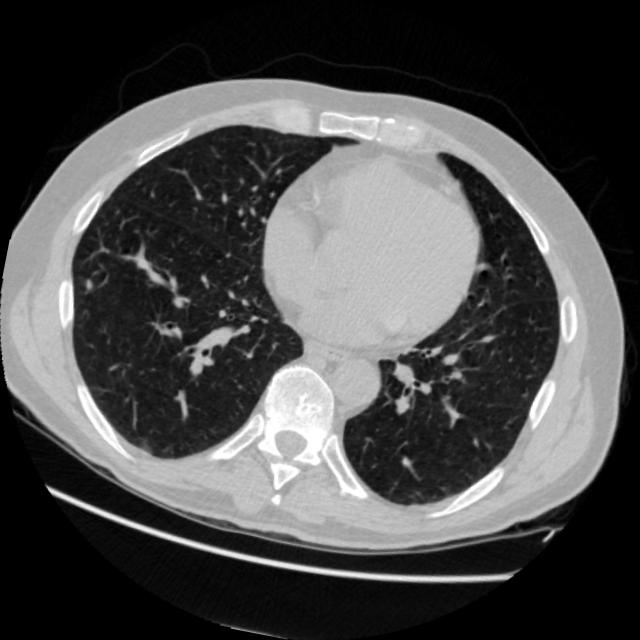nodule: (76, 271, 100, 294)
